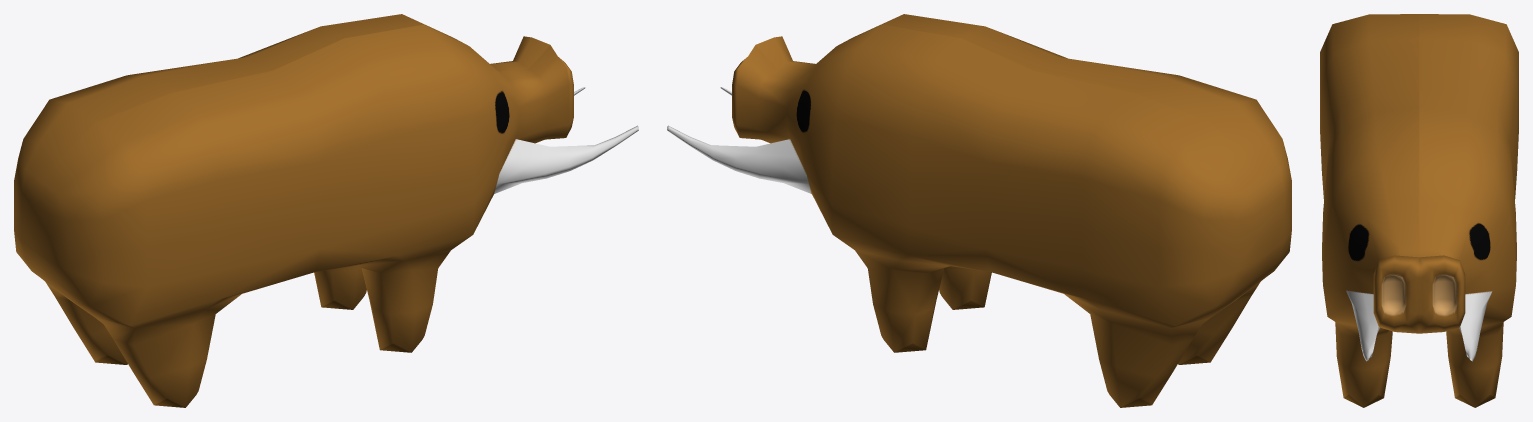
Rendered from pig.fbx.
The picture shows the model from 3 angles, left to right: view 1: azimuth 30°, elevation 25°; view 2: azimuth 150°, elevation 25°; view 3: azimuth 270°, elevation 25°; orthographic projection. The views are drawn at different scales.
Parts seen in each view (by area): view 1: pCube1; view 2: pCube1; view 3: pCube1.
Boxes of the visible parts, bbox=[...] form: pCube1: bbox=[14, 14, 638, 407]; pCube1: bbox=[667, 14, 1291, 407]; pCube1: bbox=[1320, 14, 1518, 407].
Size of the model in its own units: 11.72 by 5.67 by 3.67.
